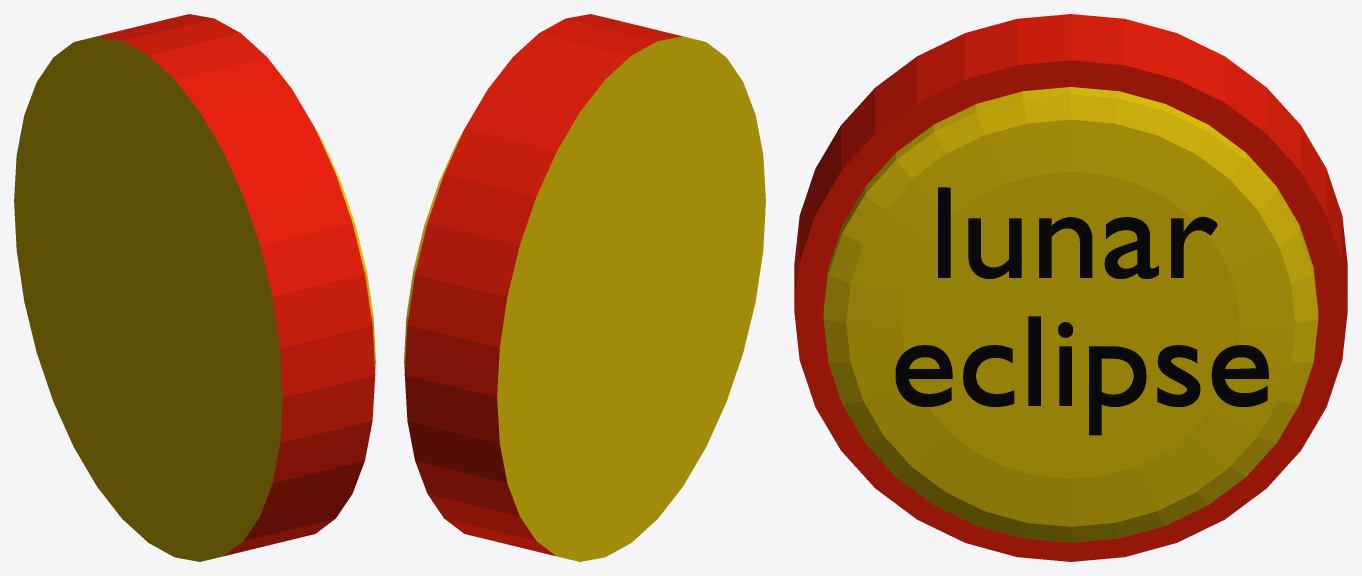
File: lunar.gltf
3 views of the same model, side by side, from view 1: azimuth 30°, elevation 25°; view 2: azimuth 150°, elevation 25°; view 3: azimuth 270°, elevation 25° (orthographic). The views are drawn at different scales.
Visible parts, largest first — view 1: Cylinder.001; view 2: Cylinder.001; view 3: Cylinder.001, Text.
Boxes of the visible parts, x1,y1,x2,y2 form: Cylinder.001: (14,14,375,561); Cylinder.001: (404,14,765,561); Cylinder.001: (794,14,1347,561); Text: (895,187,1268,435).
Bounding box in the file's own units: 0.5364 × 2 × 2.
